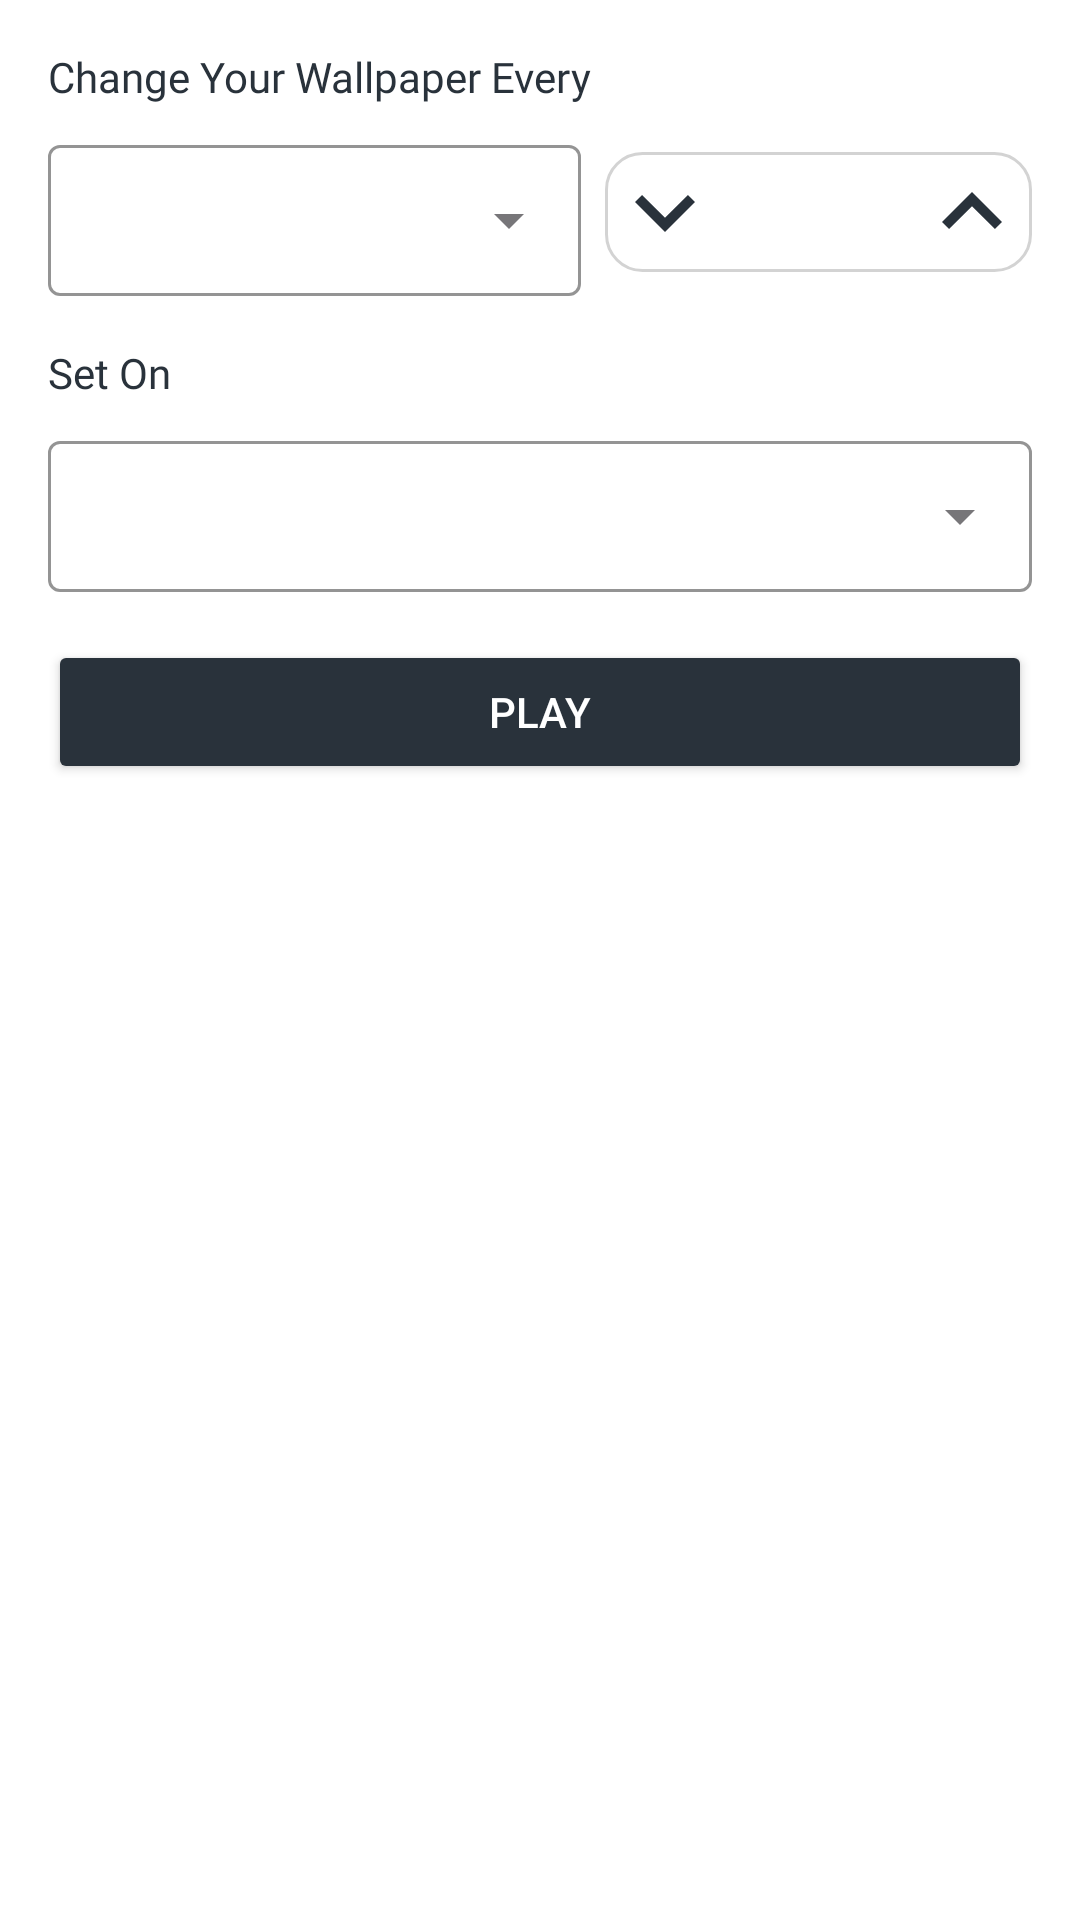

Icons on this 1080*1920 Android screen, each with its box as (x1, y1, x2, y2):
Decrement: (605, 152, 725, 272)
Increment: (912, 152, 1032, 272)
